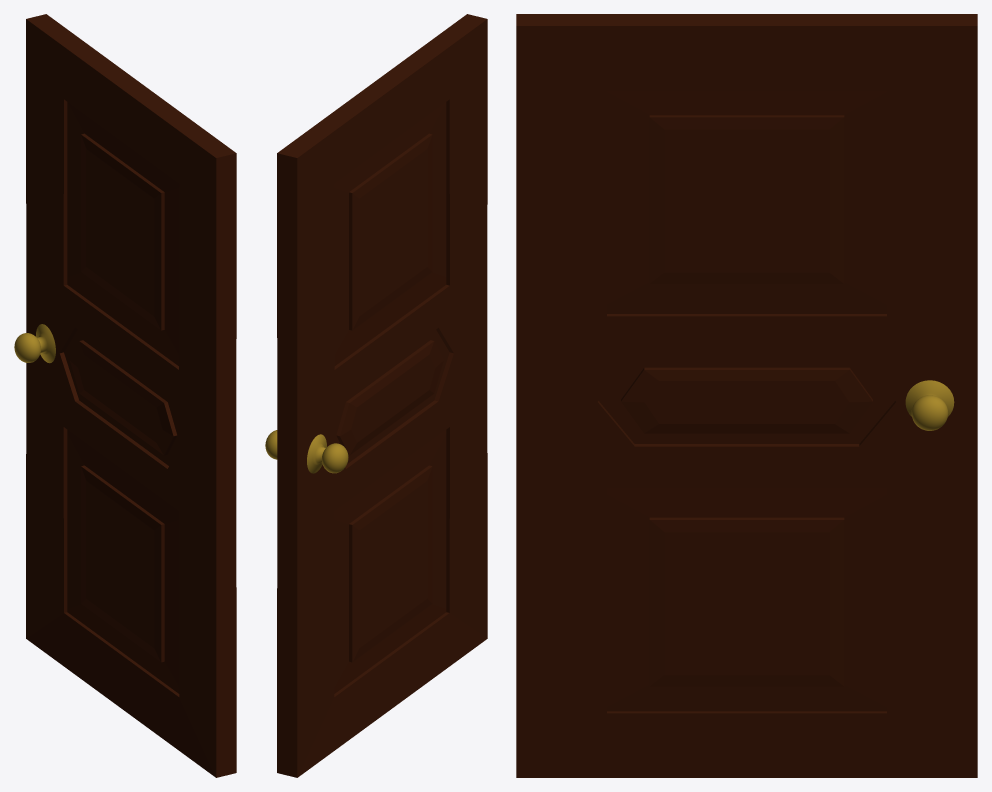
Rendered from door 8.2.1.fbx.
3 views of the same model, side by side, from view 1: azimuth 30°, elevation 25°; view 2: azimuth 150°, elevation 25°; view 3: azimuth 270°, elevation 25° (orthographic). The views are drawn at different scales.
Parts seen in each view (by area): view 1: Cube.002; view 2: Cube.002; view 3: Cube.002.
Part boxes in pixels (bbox=[...]): Cube.002: bbox=[14, 14, 236, 777]; Cube.002: bbox=[265, 14, 487, 777]; Cube.002: bbox=[516, 14, 977, 777].
Size of the model in its own units: 42.21 by 319 by 177.
